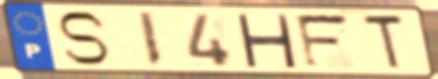4: (184, 12, 235, 69)
F: (292, 12, 355, 71)
H: (232, 12, 299, 70)
I: (135, 10, 165, 68)
S: (54, 10, 112, 67)
T: (360, 13, 408, 73)
